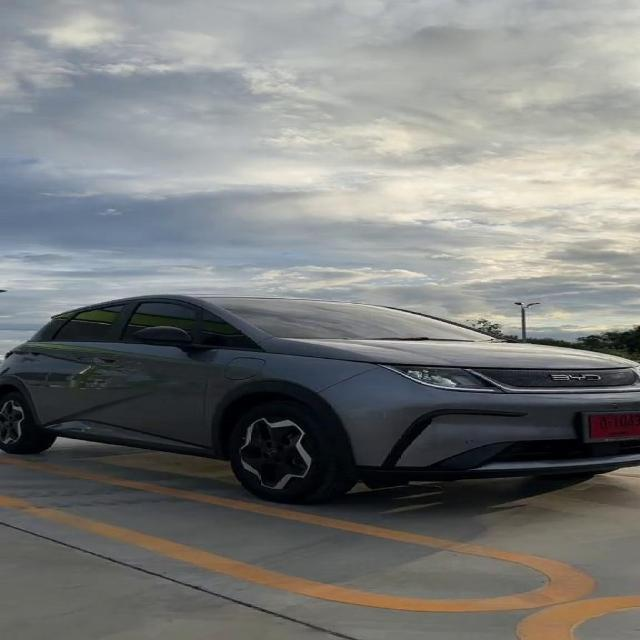Hatchback: (0, 293, 639, 503)
